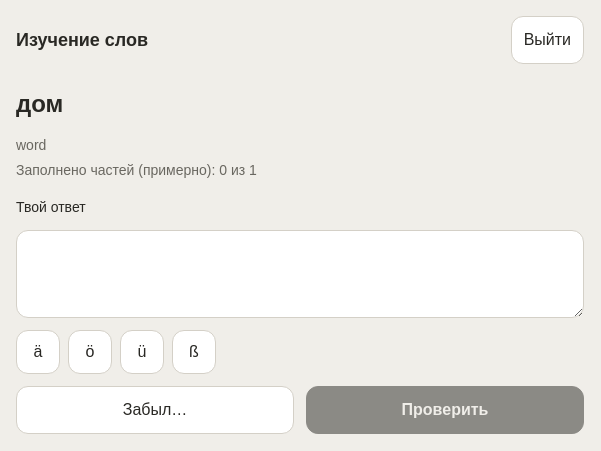
Test: LearningScreen: «Шаг назад» › a refusal says that the step back is no longer available
Type "falsch" into the text box.
click(300, 274); type("falsch")  # box [16,230,584,318]
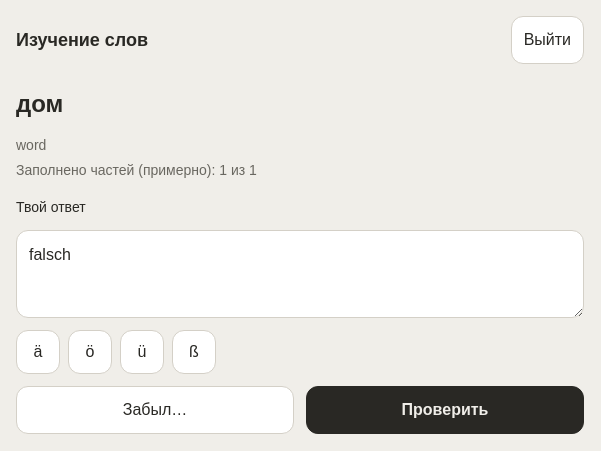
Click the button "Проверить".
click(445, 410)  # box [306,386,584,434]
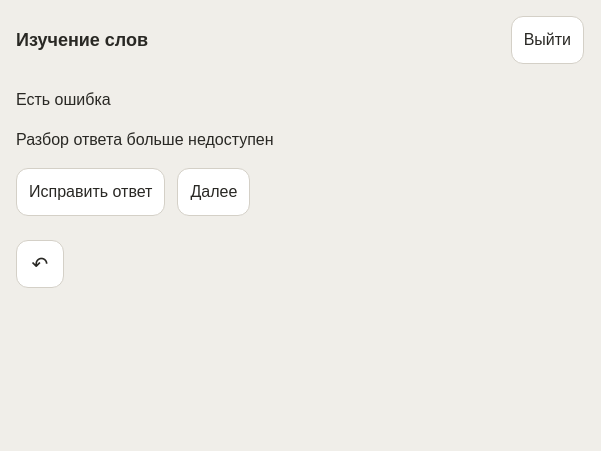
Click the button named "Шаг назад".
click(40, 264)  # box [16,240,64,288]
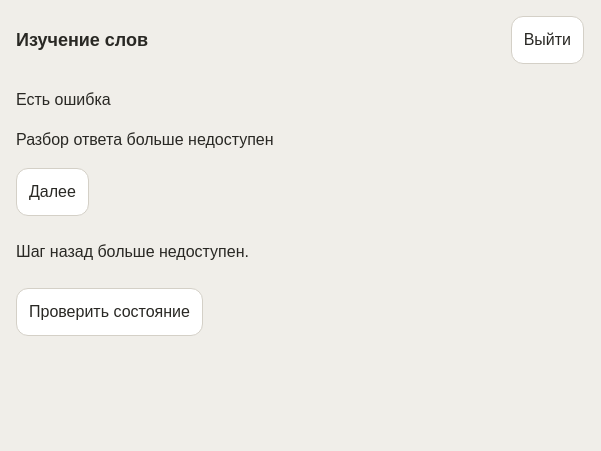
Result: the text "Шаг назад больше недоступен." is shown at [16,243,249,260]
